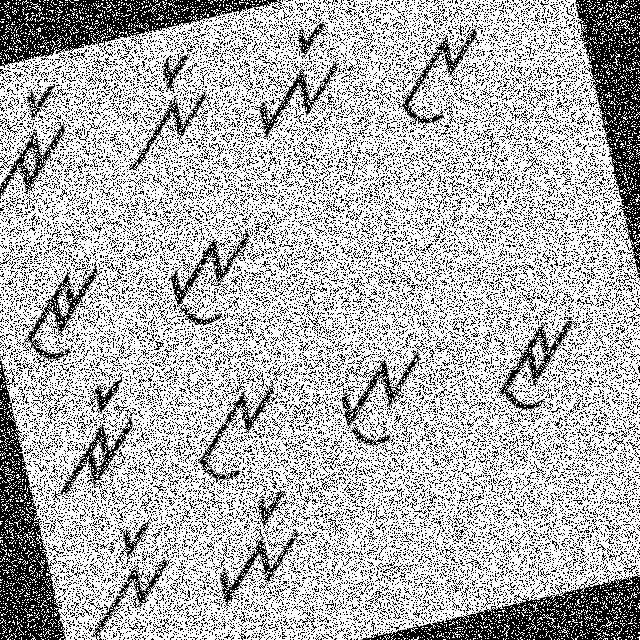lar: (101, 41, 228, 176), (65, 510, 187, 639)
law: (373, 9, 501, 140), (174, 366, 300, 488)
rar: (31, 368, 163, 508), (0, 76, 87, 210)
raw: (466, 302, 603, 423), (0, 256, 124, 371)
yar: (225, 11, 356, 146), (186, 481, 316, 616)
yaw: (141, 206, 274, 344), (322, 330, 441, 463)
